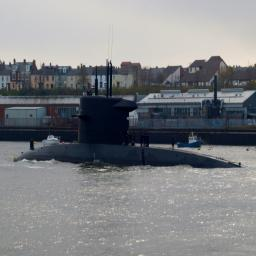submarine: (15, 97, 245, 167)
